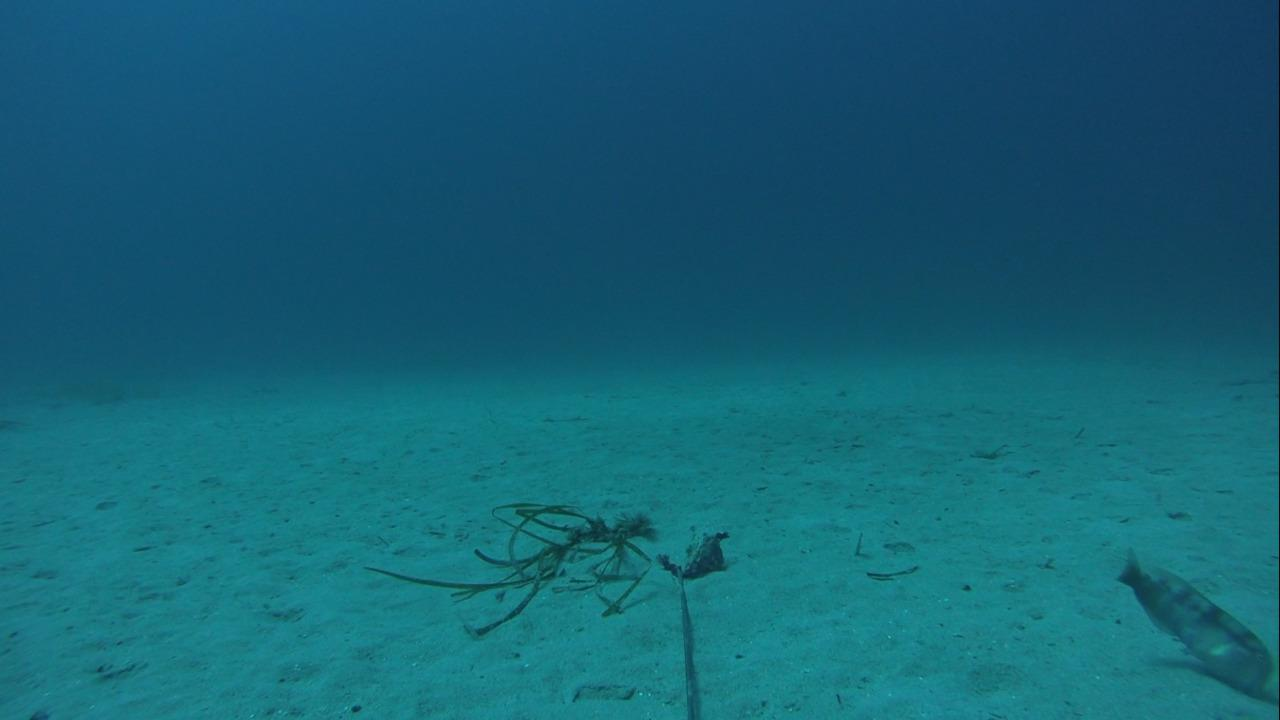raor: (1110, 545, 1272, 699)
